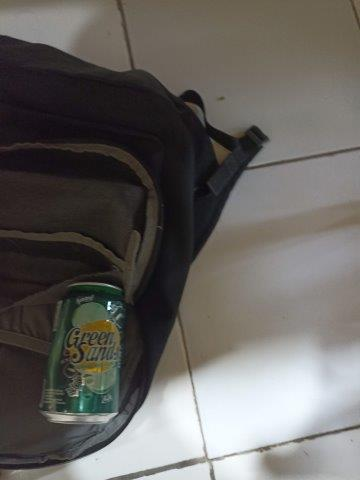kaleng: (38, 282, 126, 425)
